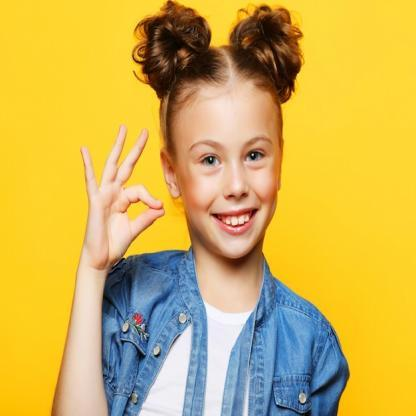ok: (78, 121, 168, 272)
